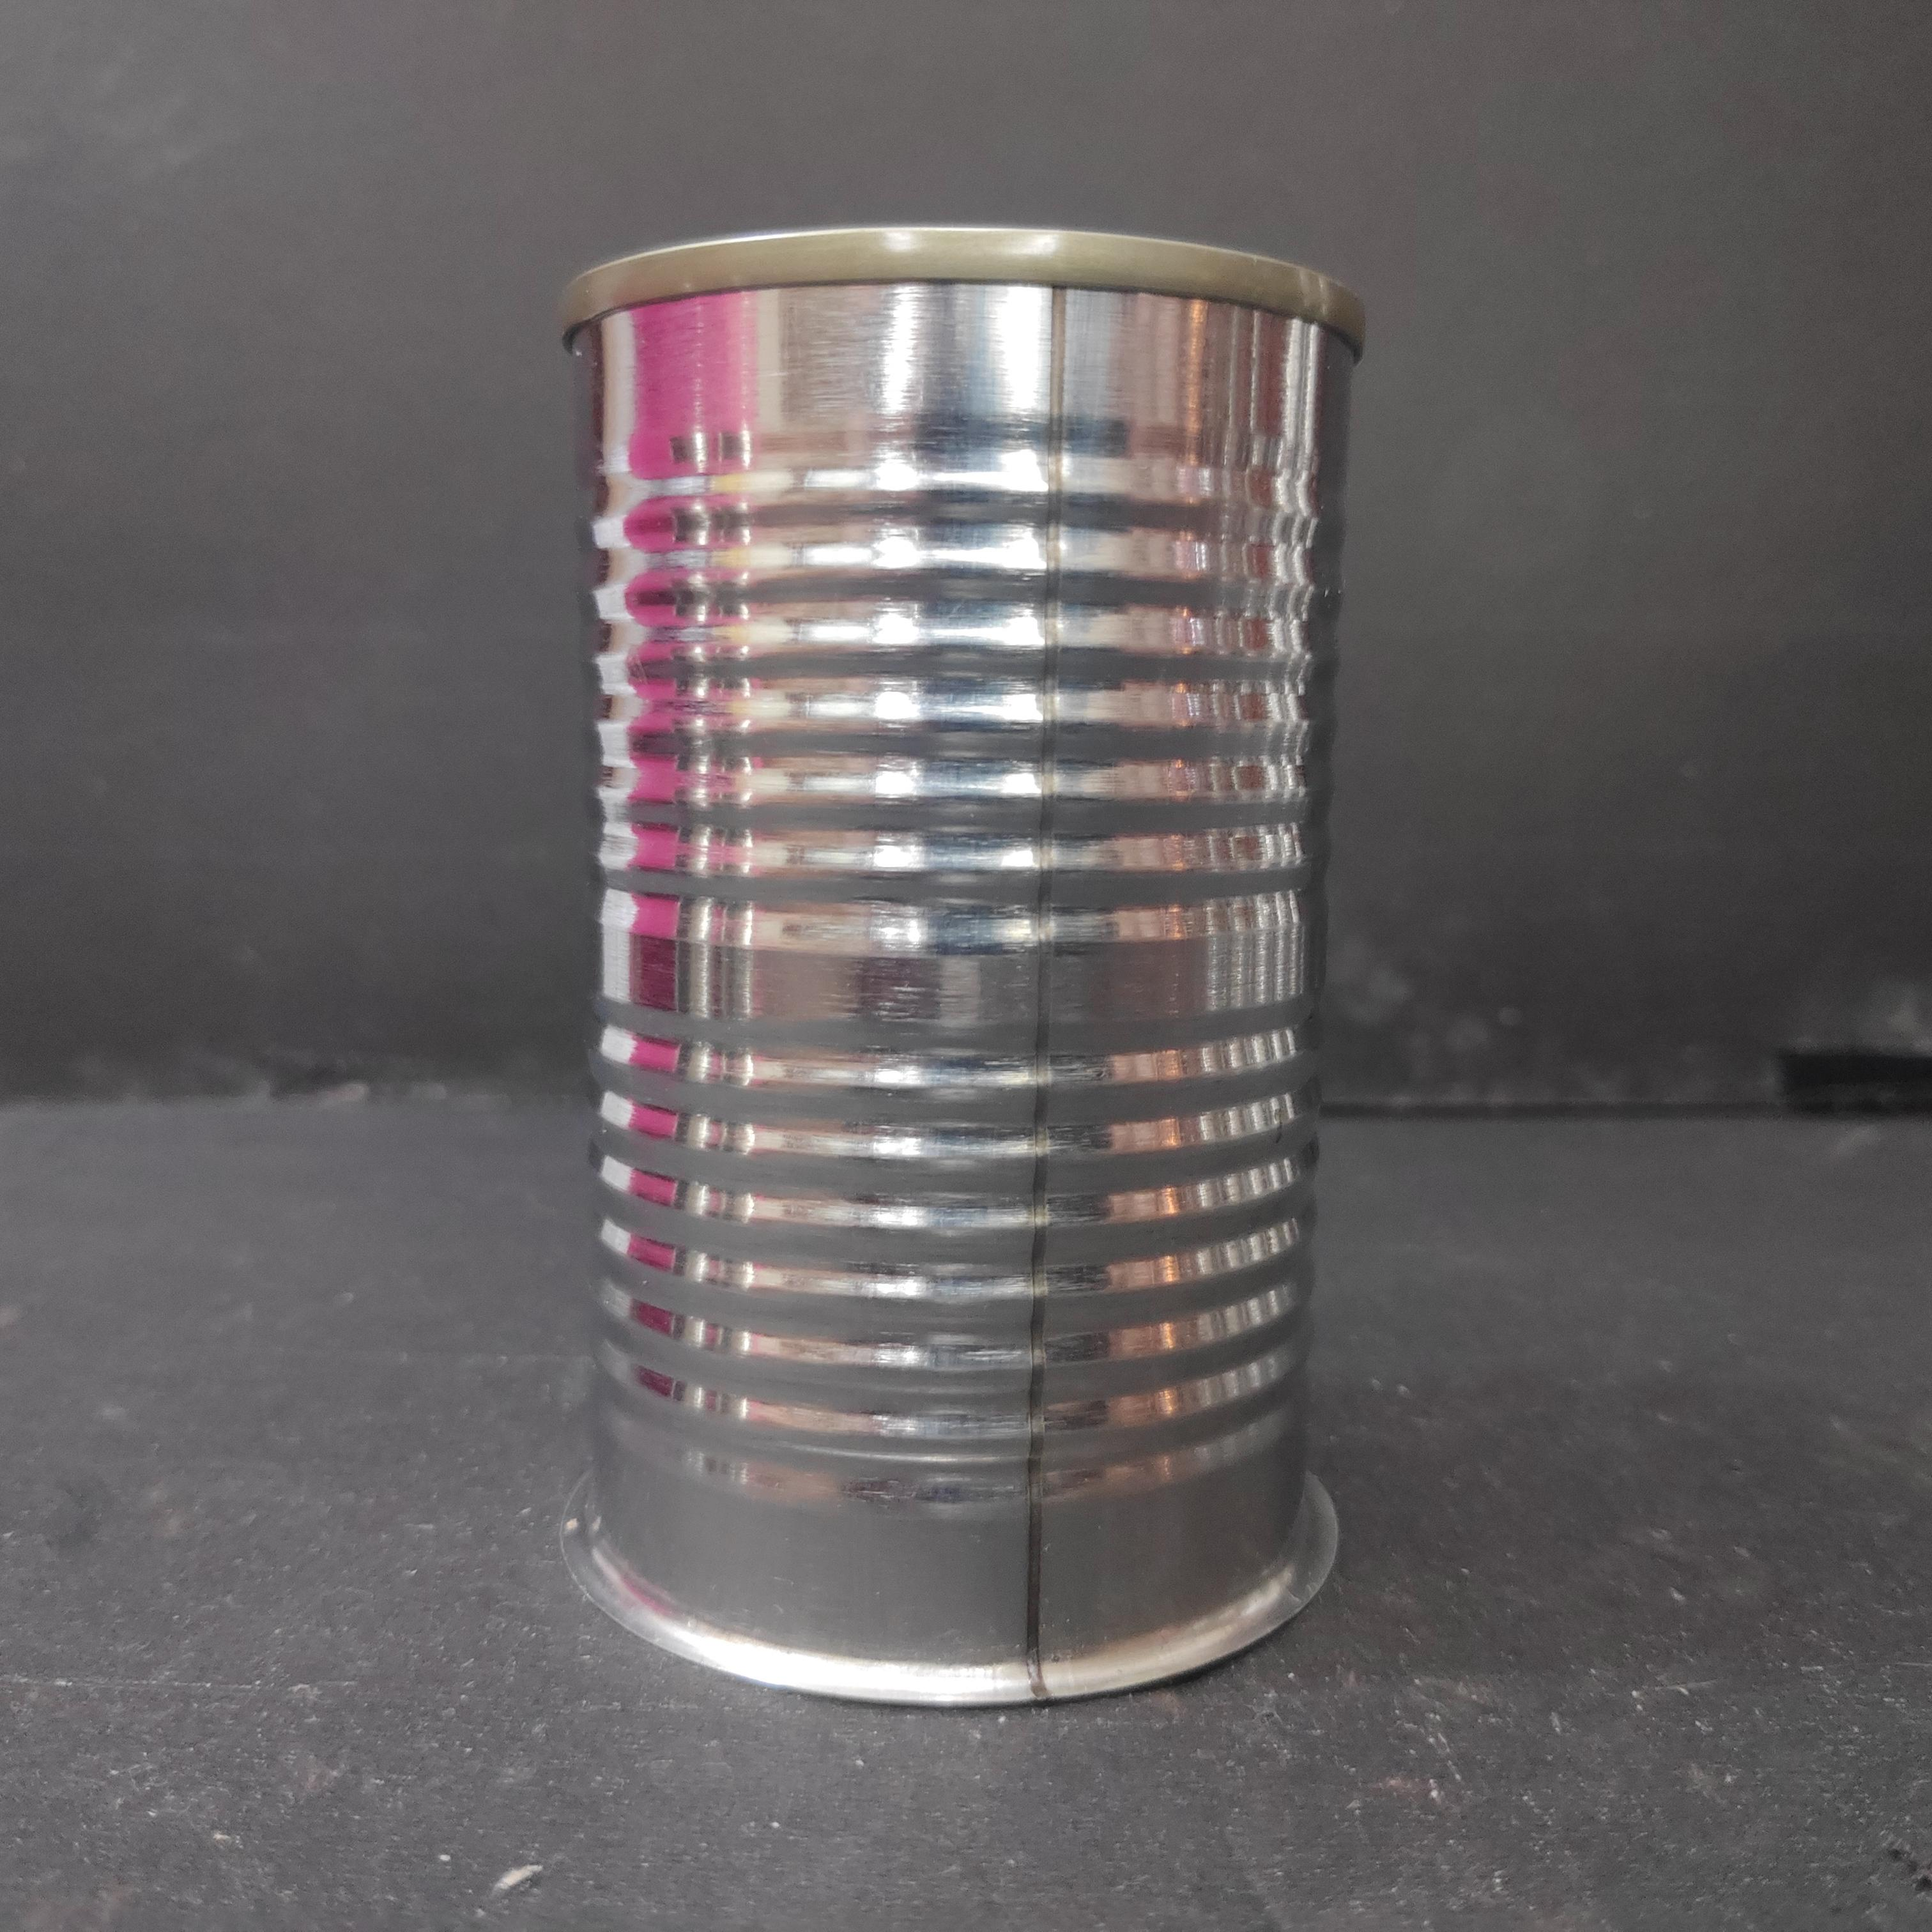No defect: (550, 209, 1378, 1720)
